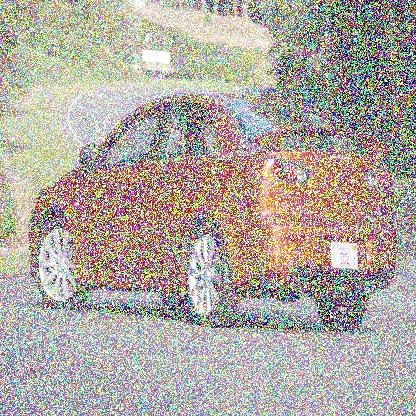Vehicle: (27, 83, 398, 328)
